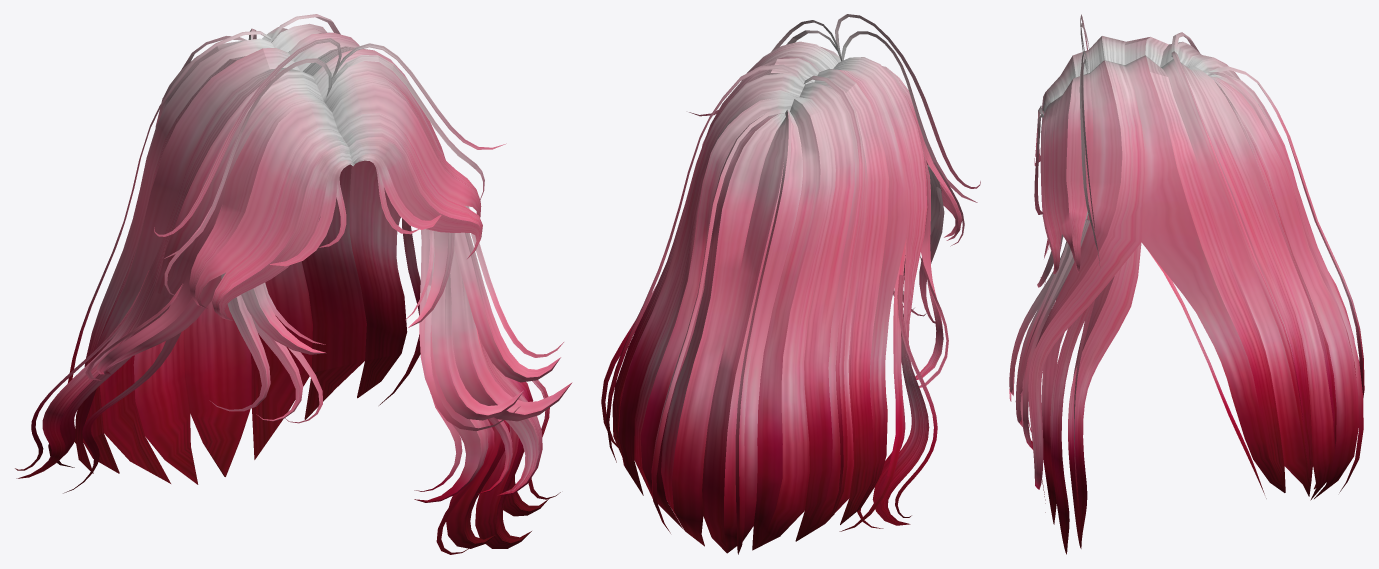
Rendered from 2_pink.glb.
3 renders of one model, left to right at view 1: azimuth 30°, elevation 25°; view 2: azimuth 150°, elevation 25°; view 3: azimuth 270°, elevation 25°, orthographic. The views are drawn at different scales.
Visible parts, largest first — view 1: Girl Red And White Hair; view 2: Girl Red And White Hair; view 3: Girl Red And White Hair.
Part boxes in pixels (x1,y1,x2,y2): Girl Red And White Hair: (15, 14, 572, 554); Girl Red And White Hair: (601, 14, 980, 554); Girl Red And White Hair: (1009, 14, 1364, 554).
Size of the model in its own units: 3.1 by 3.76 by 2.61.
1 material, 1 textured.
